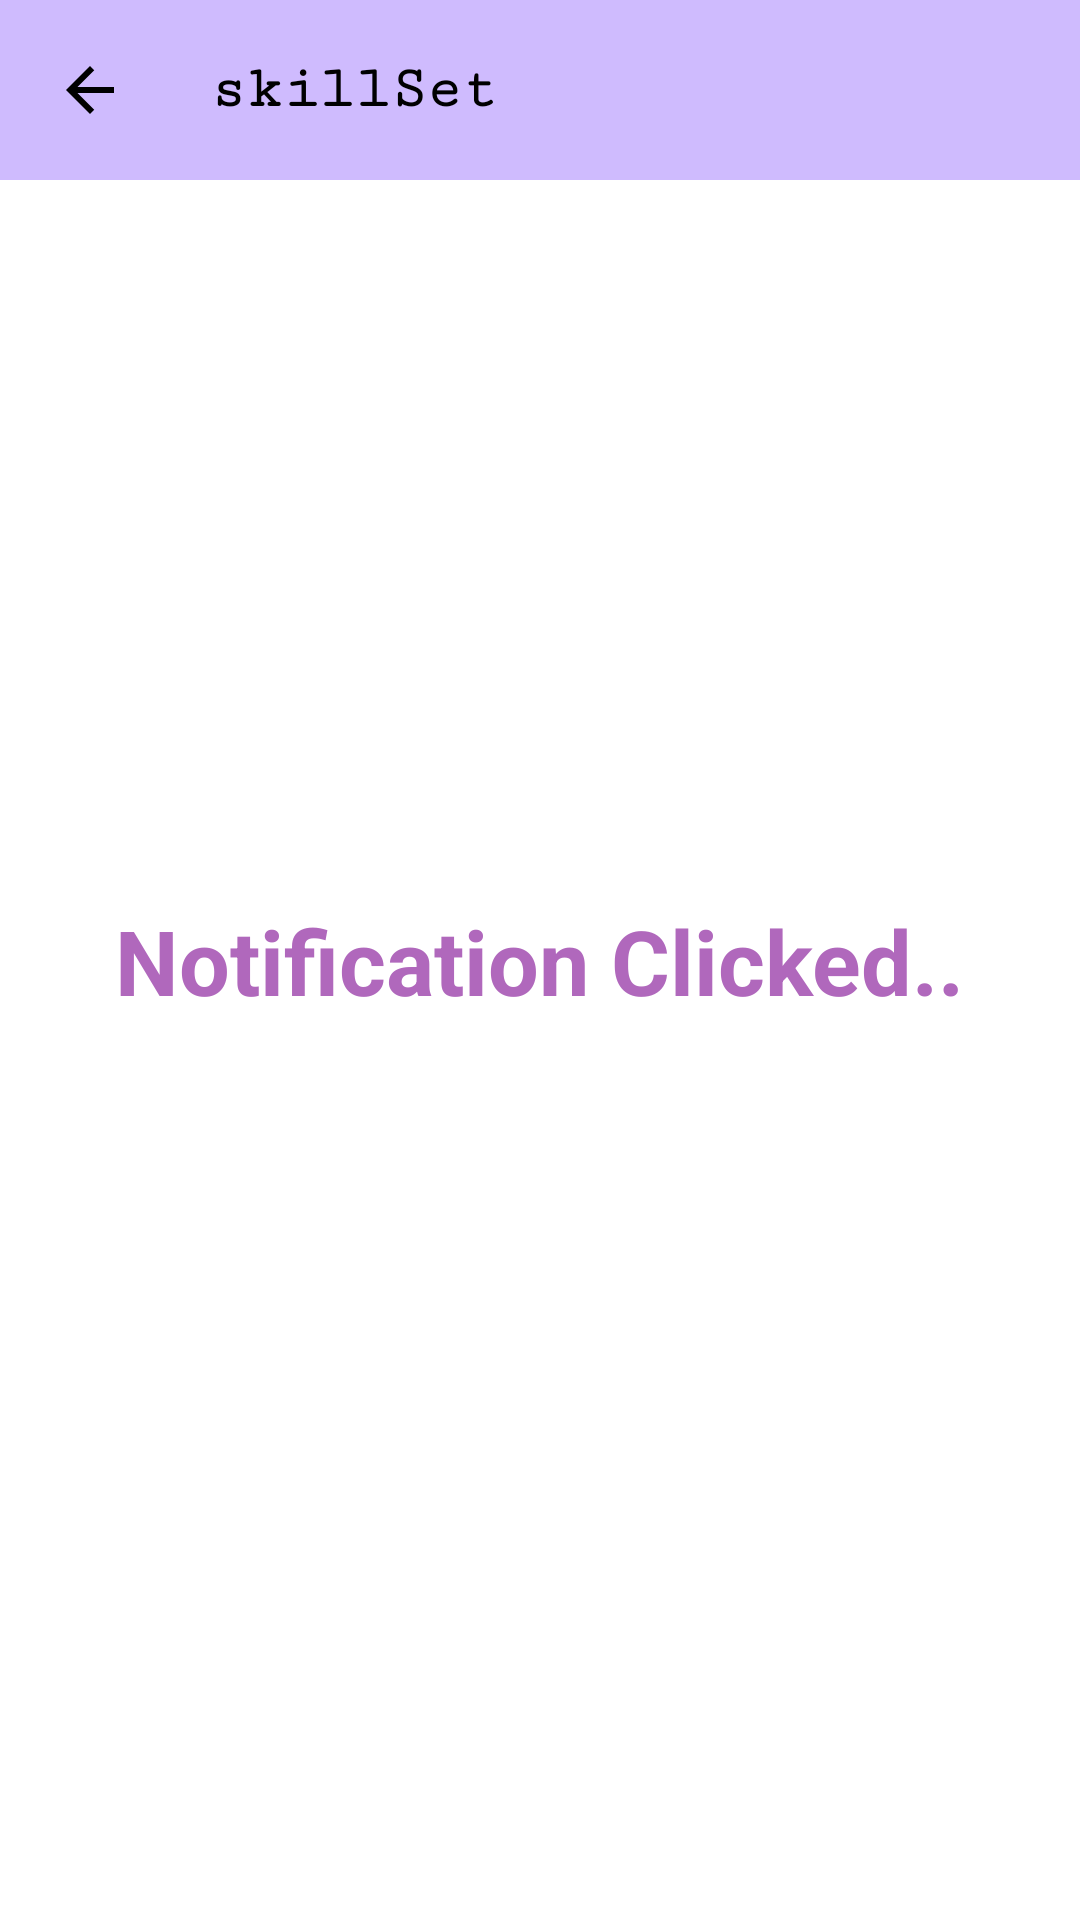

Icons on this 1080x1920 Android screen, each with its box as (x1, y1, x2, y2):
file back: (66, 66, 114, 114)
